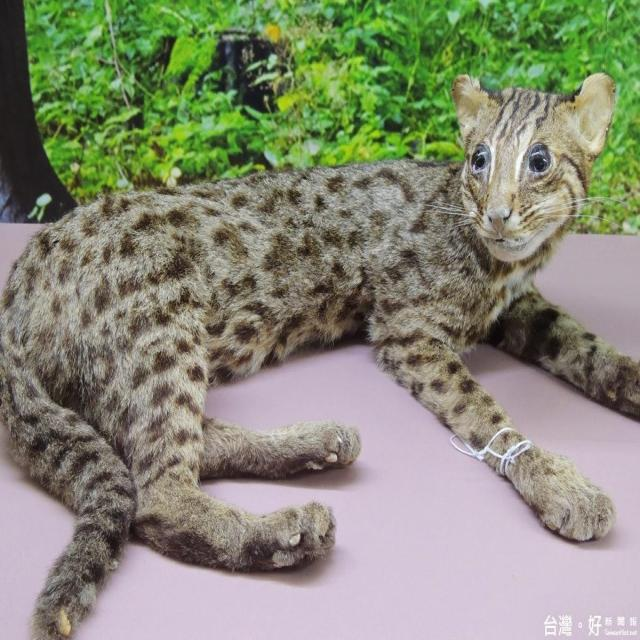leopard: (60, 101, 637, 497)
